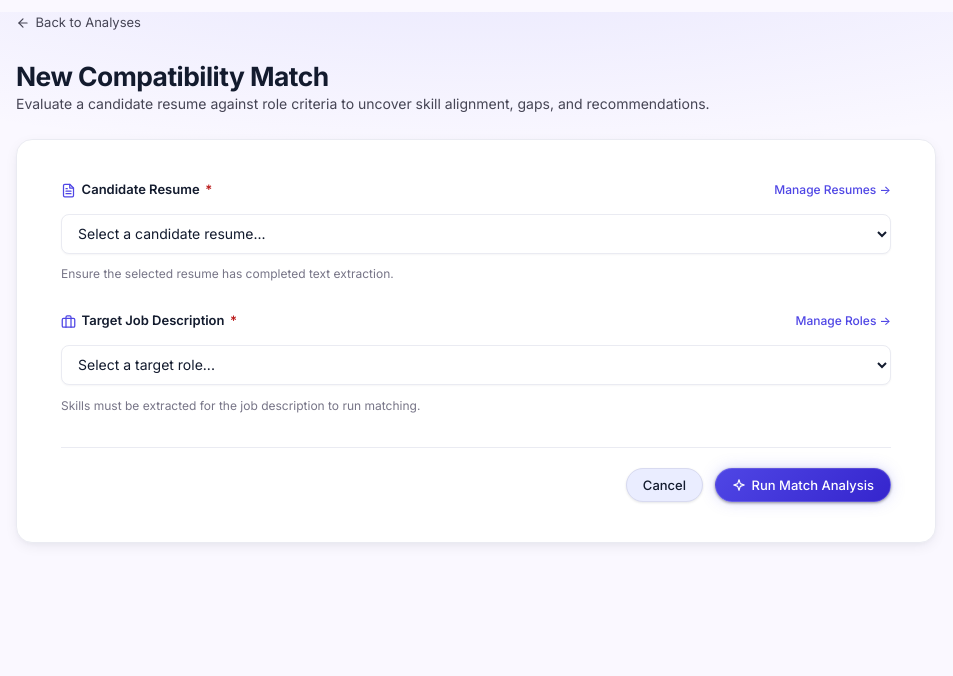
Test: Stage 5: Analysis Creation, Results & Recommendations Suite › 8. Create analysis validation: enforces selection of both resume and job
# Submit empty
Click the button with test id "start-analysis-btn": (803, 485) [715,468,891,502]
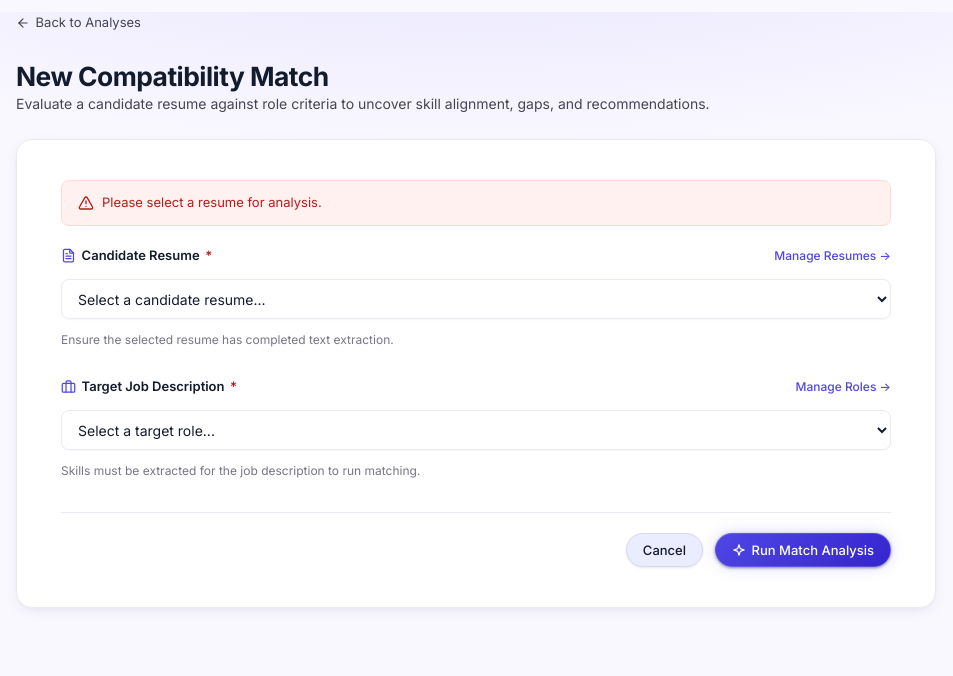
Check: the message with test id "create-analysis-validation-error" reads "Please select a resume for analysis.", box [102,194,322,210]
# Select resume only
Select "resume.pdf (Ready)" in the dropdown with test id "resume-select": (476, 299) [61,279,891,319]
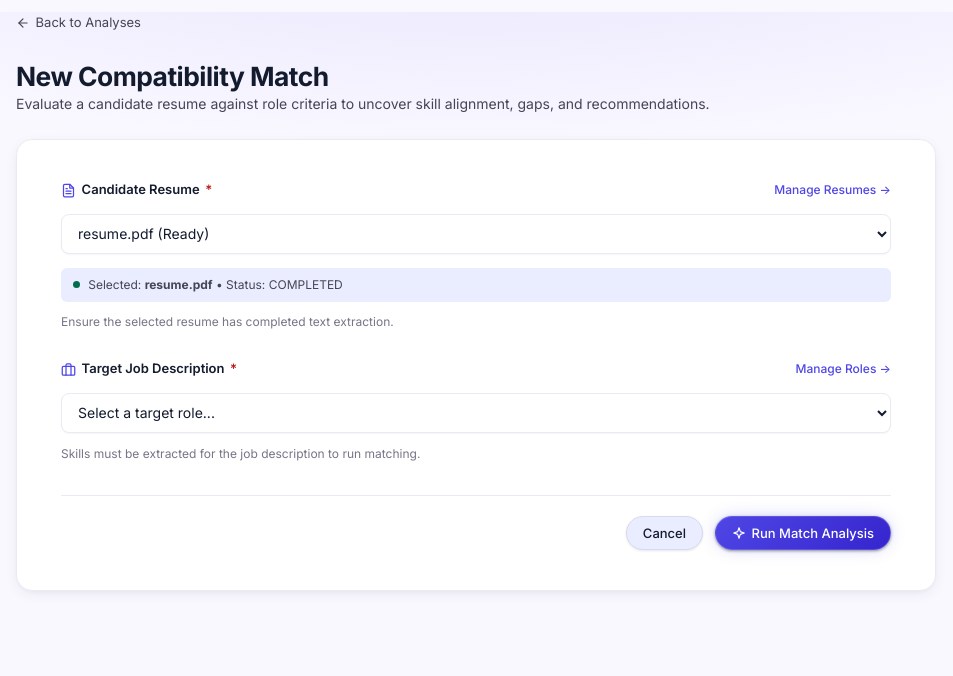
Click the button with test id "start-analysis-btn": (803, 533) [715,516,891,550]
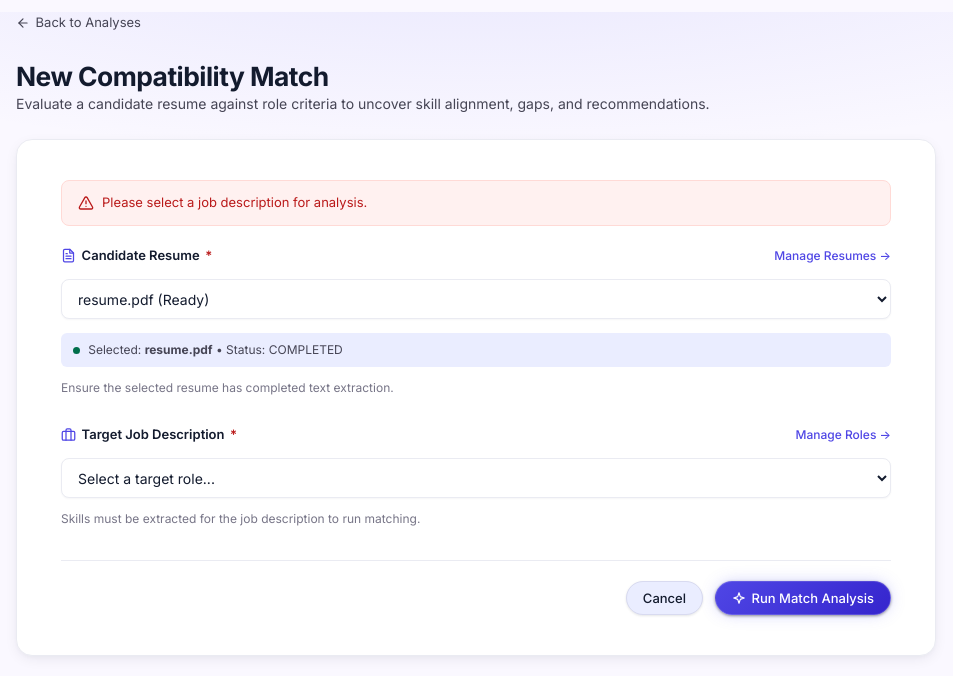
Check: the message with test id "create-analysis-validation-error" reads "Please select a job description for analysis.", box [102,194,367,210]
